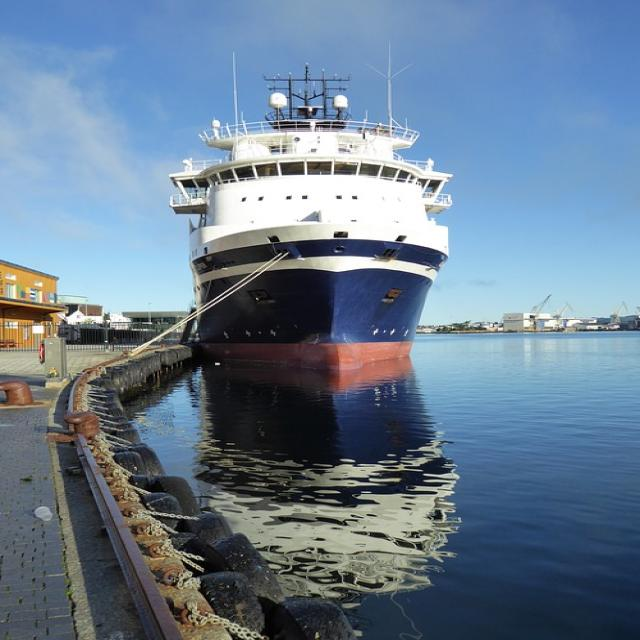passenger ship: (168, 74, 454, 354)
